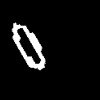chain: (12, 23, 44, 69)
